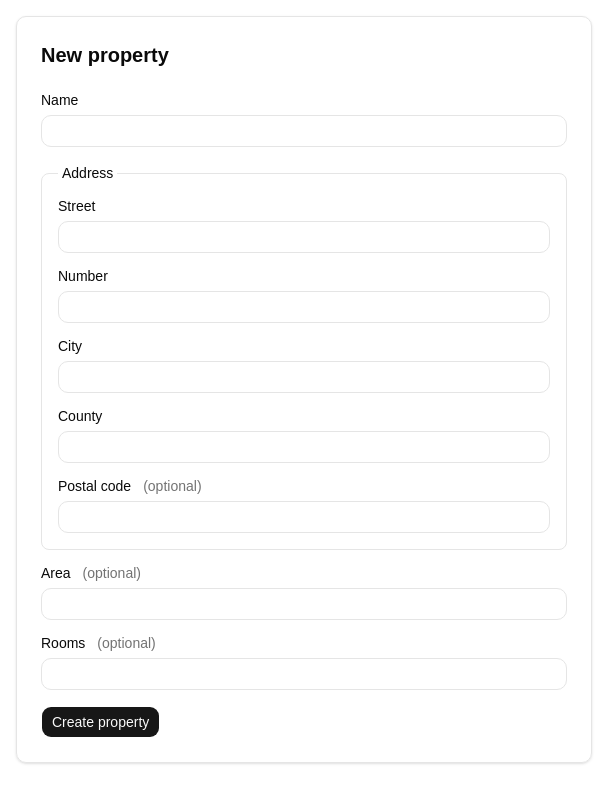
Test: CreatePropertyPage › renders the validation errors in the active language
Click the button "Create property".
click(101, 722)  # box x1=41 y1=706 x2=160 y2=738
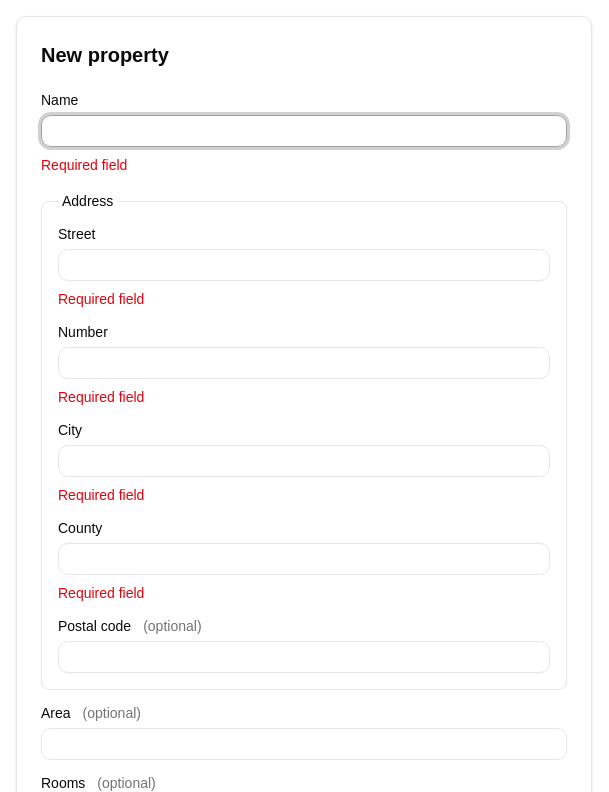
Result: the text "Required field" is shown 5 times at x1=41 y1=157 x2=127 y2=173; x1=58 y1=291 x2=144 y2=307; x1=58 y1=389 x2=144 y2=405; x1=58 y1=487 x2=144 y2=503; x1=58 y1=585 x2=144 y2=601
